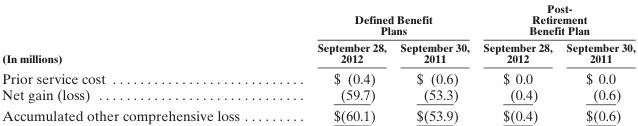table: (1, 1, 634, 123)
table column: (1, 1, 277, 123), (277, 1, 392, 123), (392, 1, 475, 123), (475, 1, 558, 123), (558, 1, 634, 123)
table column header: (1, 1, 634, 67)
table row: (1, 1, 634, 38), (1, 38, 634, 67), (1, 85, 634, 104), (1, 104, 634, 123), (1, 67, 634, 85)
table spanning cell: (1, 1, 277, 67), (277, 1, 475, 38), (475, 1, 634, 38)
